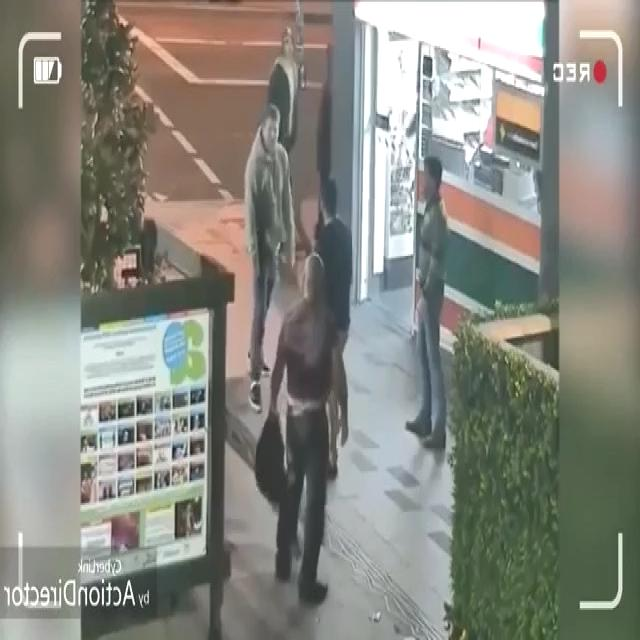fight: (238, 104, 357, 378)
